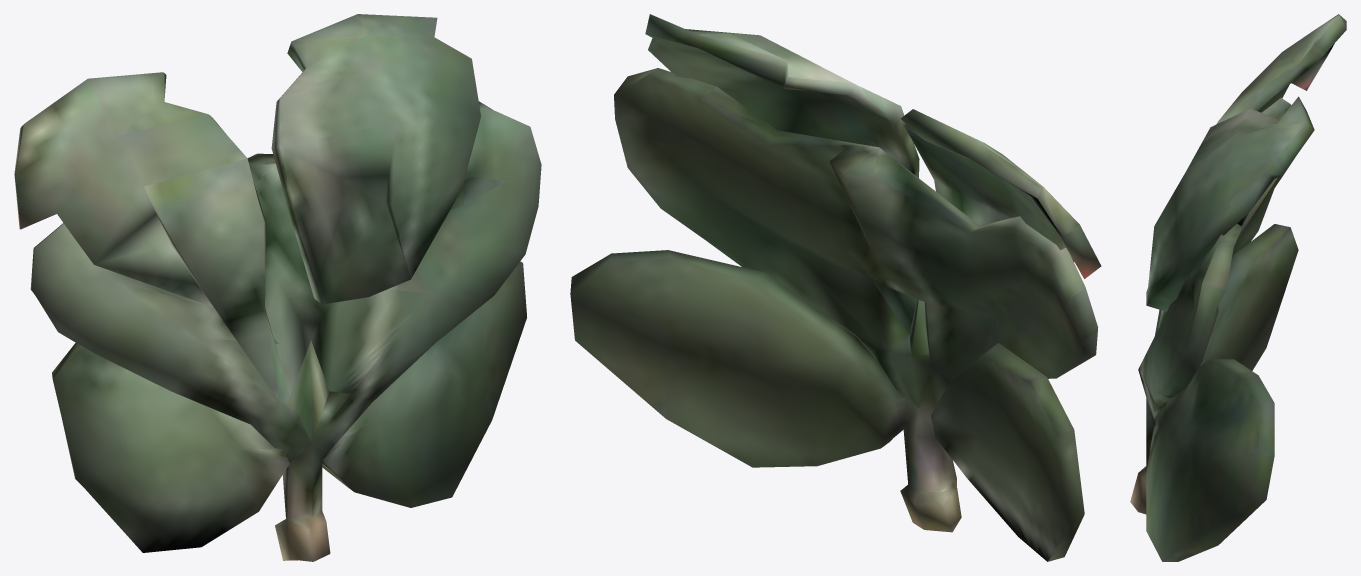
Rendered from spinach.glb.
3 renders of one model, left to right at view 1: azimuth 30°, elevation 25°; view 2: azimuth 150°, elevation 25°; view 3: azimuth 270°, elevation 25°, orthographic. The views are drawn at different scales.
Visible parts, largest first — view 1: Spinach; view 2: Spinach; view 3: Spinach.
Part boxes in pixels (box(x1,y1,x2,y2)): Spinach: box(14, 14, 541, 561); Spinach: box(570, 14, 1101, 561); Spinach: box(1130, 14, 1346, 561).
Bounding box in the file's own units: 1.54 × 1.38 × 0.6031.
1 material, 1 textured.
